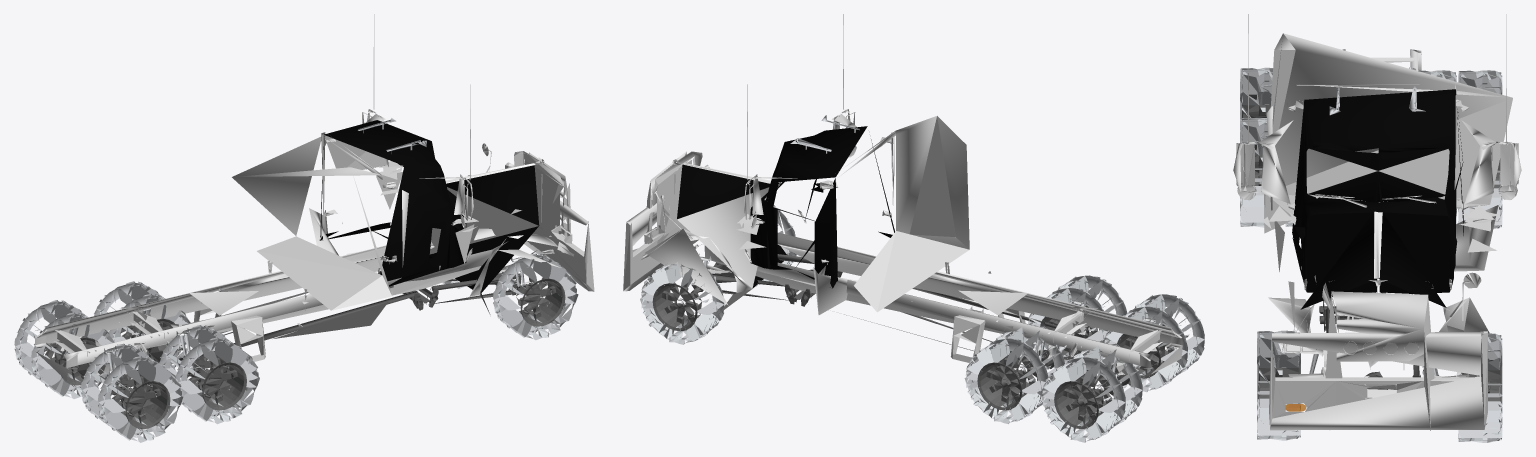
The model's file is veh-semi.glb.
3 renders of one model, left to right at view 1: azimuth 30°, elevation 25°; view 2: azimuth 150°, elevation 25°; view 3: azimuth 270°, elevation 25°, orthographic. The views are drawn at different scales.
Visible parts, largest first — view 1: Material2; view 2: Material2; view 3: Material2.
Boxes of the visible parts, left/top/right/bottom form: Material2: left=14, top=14, right=594, bottom=442; Material2: left=623, top=14, right=1204, bottom=442; Material2: left=1233, top=14, right=1521, bottom=442.
Size of the model in its own units: 447 by 237 by 165.
12 materials, 1 textured.
